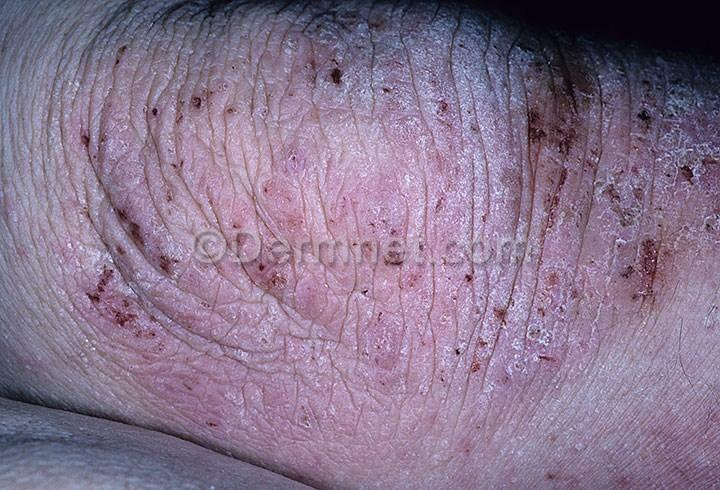exudacion 1: (88, 38, 671, 307)
xerosis 2: (22, 5, 712, 375)
